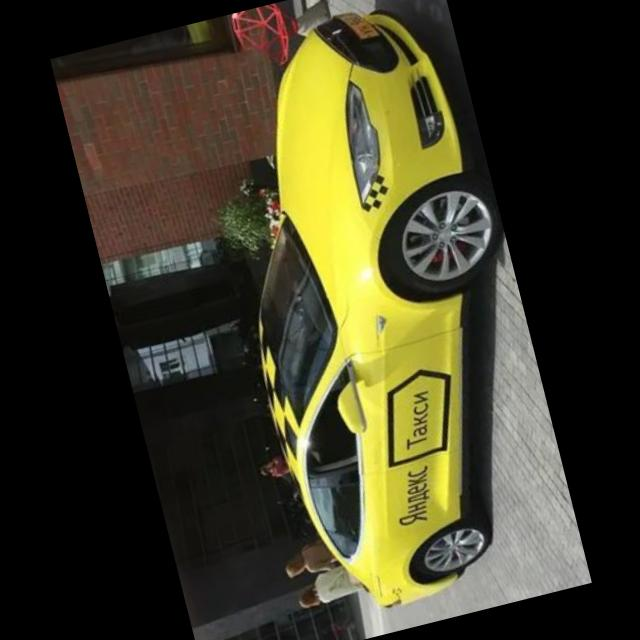taxi: (177, 1, 586, 627)
